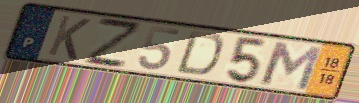5: (223, 35, 268, 85), (136, 25, 182, 72)
D: (173, 29, 227, 78)
K: (45, 13, 94, 62)
M: (258, 39, 325, 93)
Z: (82, 15, 142, 70)
